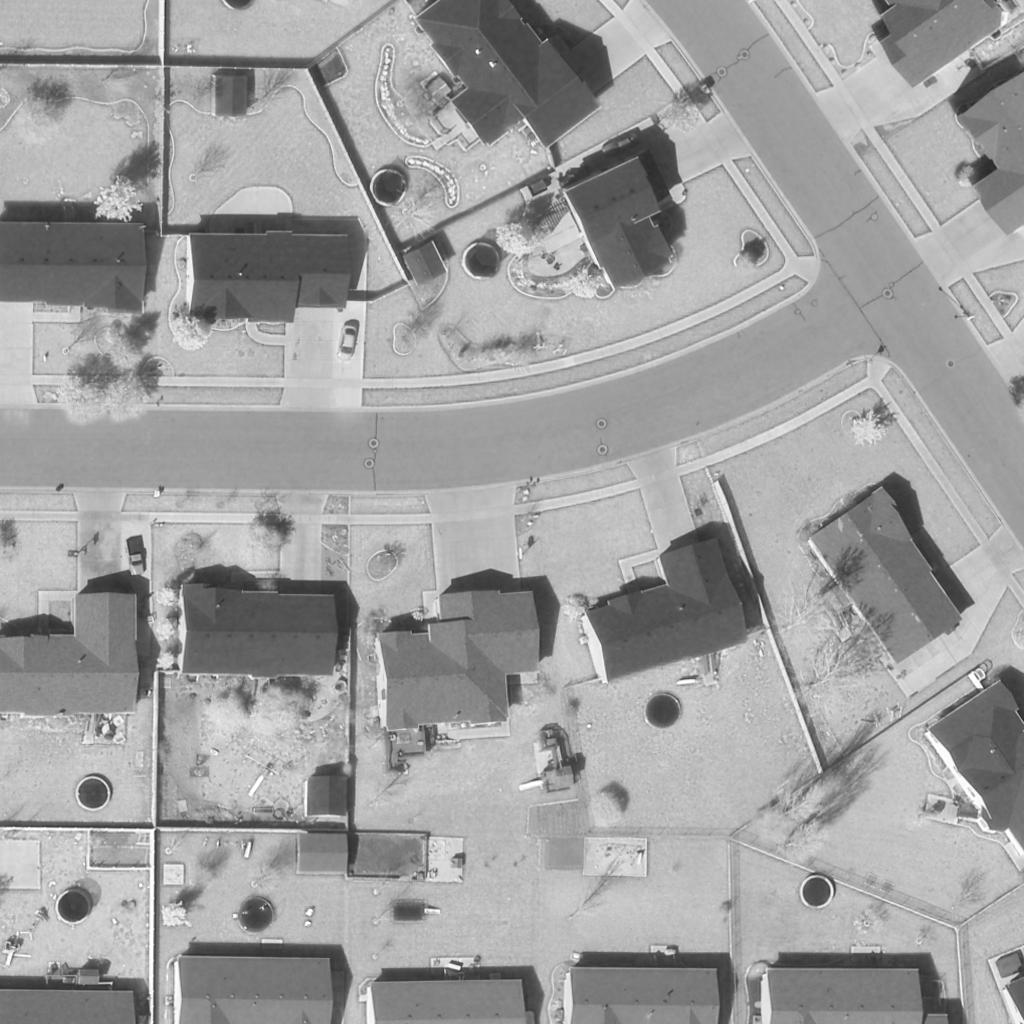vehicle: (334, 323, 360, 363), (125, 536, 149, 576)
